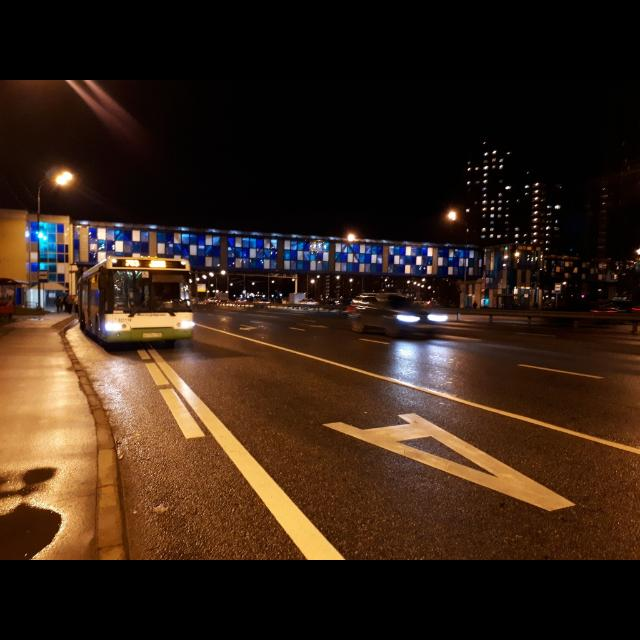road: (69, 309, 639, 559)
